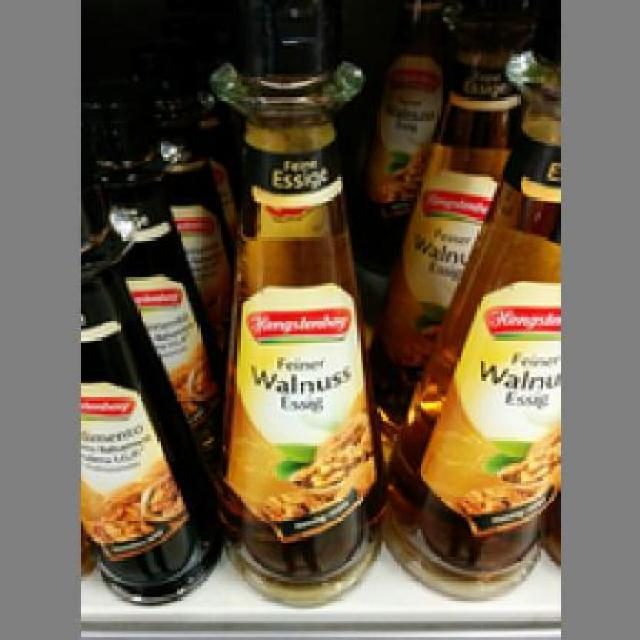Vinegar: (200, 33, 386, 610), (394, 62, 560, 588), (77, 167, 200, 604)
